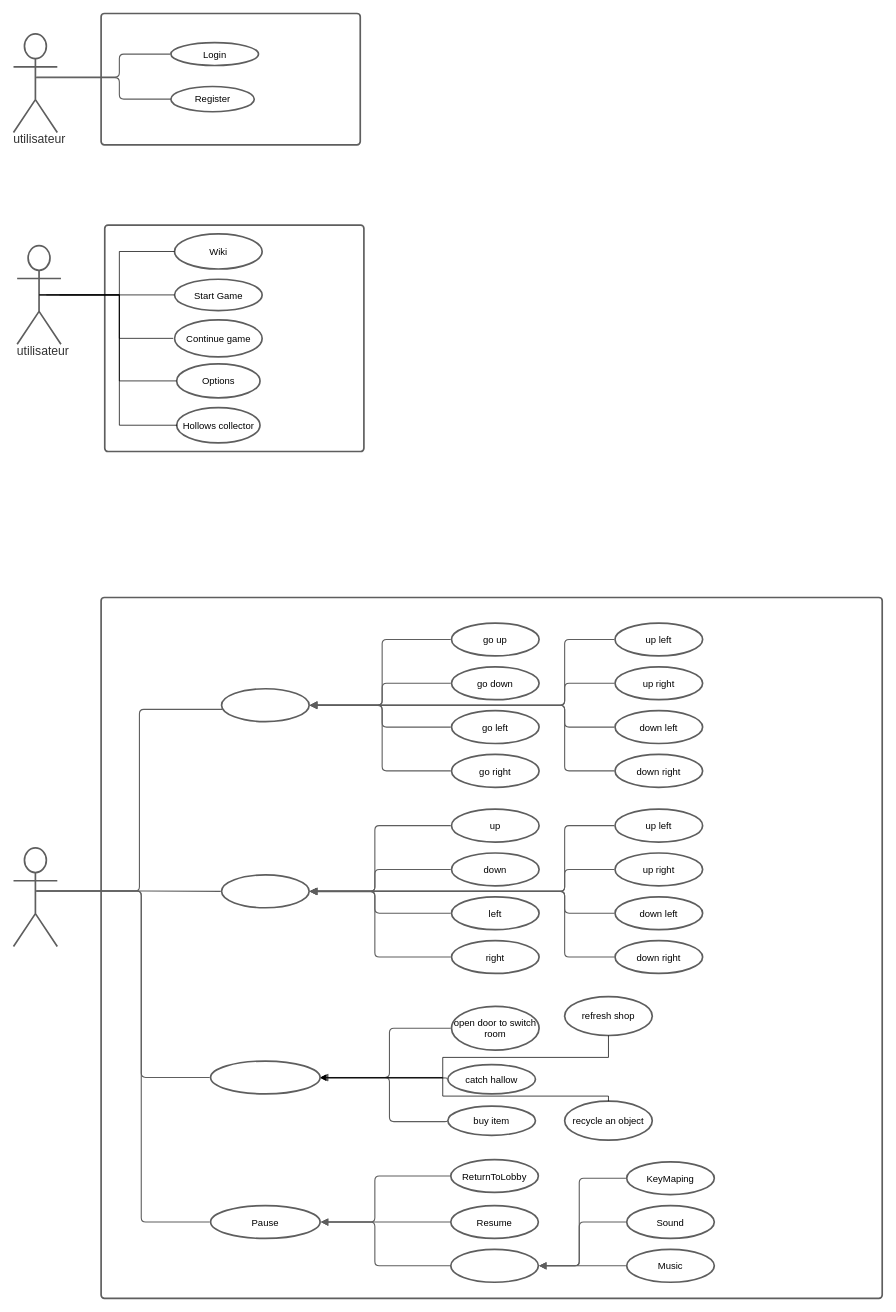
Image size: 896x1312. Some labels were removed from this diagram. Each missing label, with the centre of its shape:
"Interact With Object" goes at (265,1077).
"Move" goes at (265,705).
"Option" goes at (494,1265).
"Player" goes at (35,897).
"Shoot" goes at (265,891).
